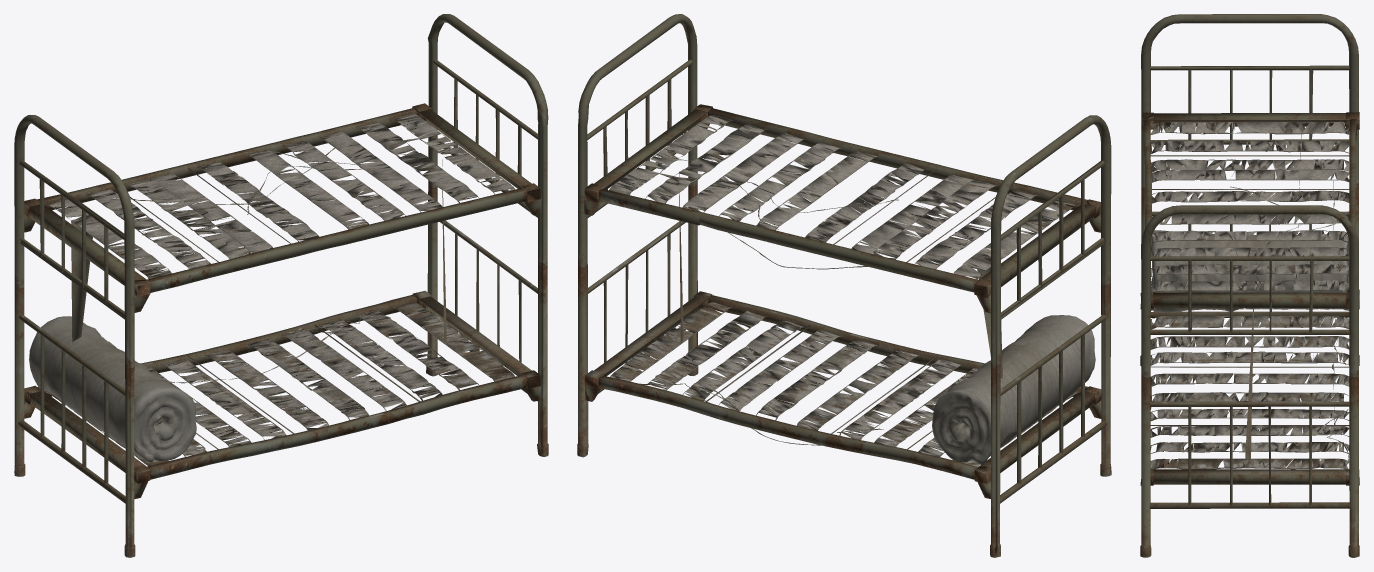
Rendered from silo81_bunk_stripped.glb.
3 renders of one model, left to right at view 1: azimuth 30°, elevation 25°; view 2: azimuth 150°, elevation 25°; view 3: azimuth 270°, elevation 25°, orthographic. The views are drawn at different scales.
Bounding box in the file's own units: 0.9517 × 0.7954 × 0.4517.
1 material, 1 textured.
